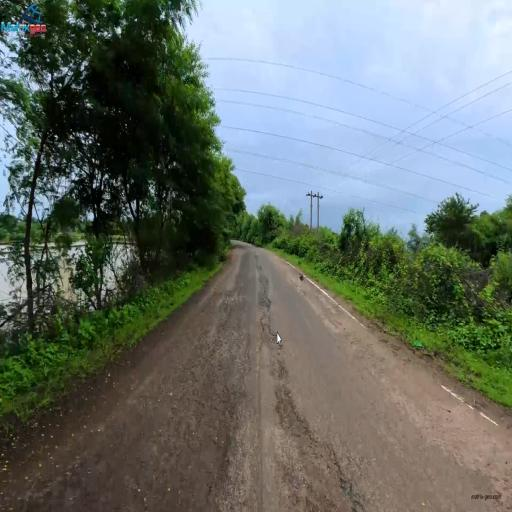longitudinal_crack: (259, 276, 284, 377)
ravelling: (300, 405, 330, 459)
